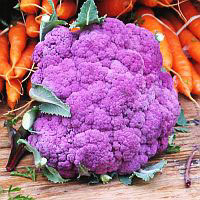cauliflower: (17, 0, 187, 184)
